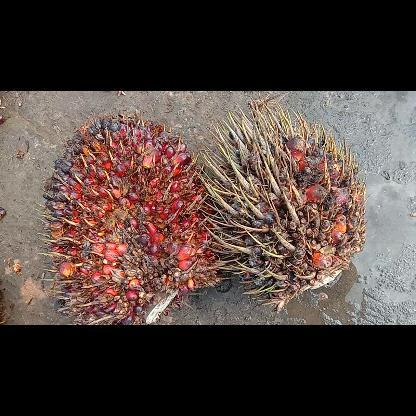TBS abnormal: (197, 100, 365, 310)
TBS masak: (40, 112, 220, 324)
